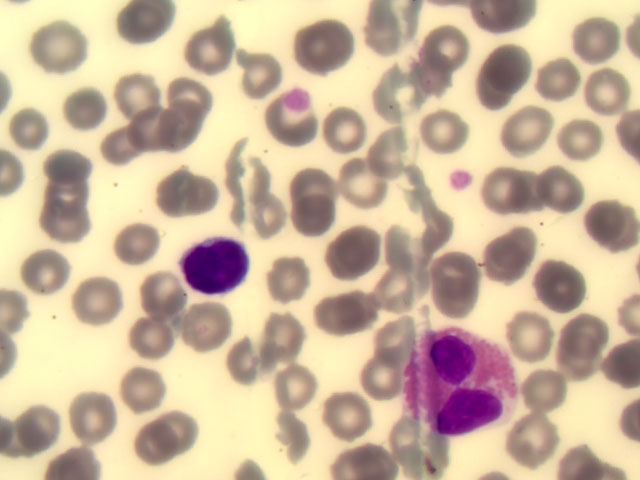Platelets: (284, 88, 310, 110), (449, 170, 471, 188)
RBC: (29, 20, 89, 75), (52, 79, 112, 134), (8, 101, 68, 156), (41, 129, 101, 184), (33, 161, 93, 216), (35, 207, 95, 262), (16, 247, 76, 302), (63, 275, 123, 330), (105, 216, 165, 271), (157, 167, 217, 222), (154, 108, 214, 163), (126, 111, 186, 166), (97, 124, 157, 179), (103, 65, 163, 120), (164, 59, 224, 114), (184, 17, 244, 72), (220, 38, 280, 93), (297, 19, 357, 74), (316, 100, 376, 155), (331, 151, 391, 206), (367, 124, 427, 179), (362, 68, 422, 123), (357, 9, 417, 64), (418, 13, 478, 68), (415, 40, 475, 95), (418, 106, 478, 161), (462, 67, 522, 122), (480, 37, 540, 92), (525, 50, 585, 105), (569, 15, 629, 70), (572, 70, 632, 125), (549, 117, 609, 172), (503, 105, 563, 160), (466, 158, 526, 213), (531, 157, 591, 212), (580, 194, 640, 249), (531, 256, 591, 311), (479, 224, 539, 279), (426, 240, 486, 295), (421, 265, 481, 320), (321, 221, 381, 276), (378, 218, 438, 273), (370, 254, 430, 309), (322, 286, 382, 341), (258, 247, 318, 302), (280, 192, 340, 247), (279, 158, 339, 213), (257, 308, 317, 363), (211, 332, 271, 387), (180, 301, 240, 356), (136, 264, 196, 319), (117, 312, 177, 367), (107, 361, 167, 416), (62, 387, 122, 442), (9, 400, 69, 455), (121, 421, 181, 476), (154, 392, 214, 447), (269, 356, 329, 411), (313, 393, 373, 448), (349, 355, 409, 410), (522, 363, 582, 418), (507, 305, 567, 360), (554, 314, 614, 369), (509, 407, 569, 462), (113, 1, 173, 55)
WBC: (399, 323, 521, 429), (181, 237, 250, 294)
